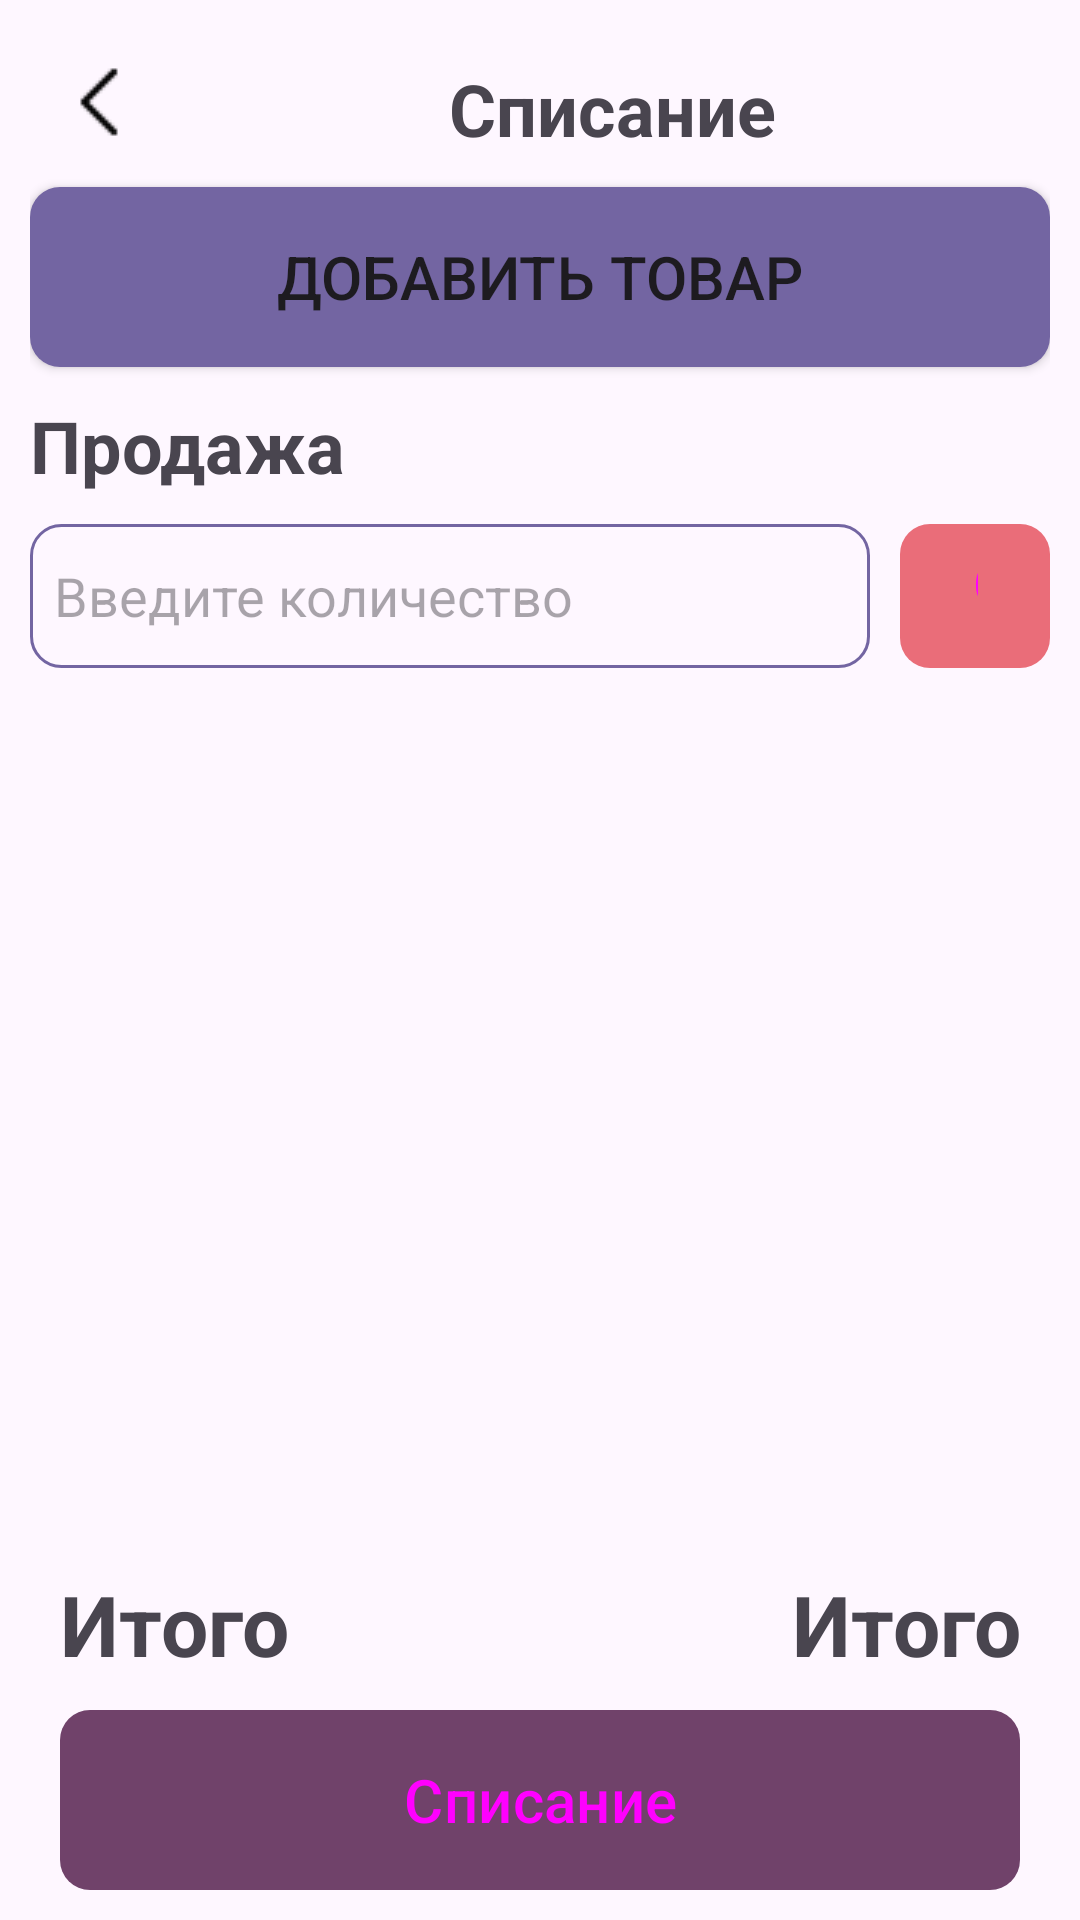

Named icons in this screenshot (1080 x 1920) and their bounding boxes, (x1, y1, x2, y2):
back: (80, 68, 118, 136)
